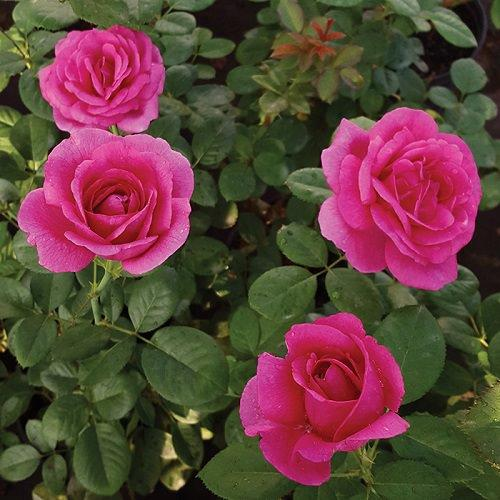Rose: (313, 99, 488, 304), (244, 309, 408, 494), (19, 132, 203, 275), (15, 24, 203, 137), (487, 294, 488, 304)
